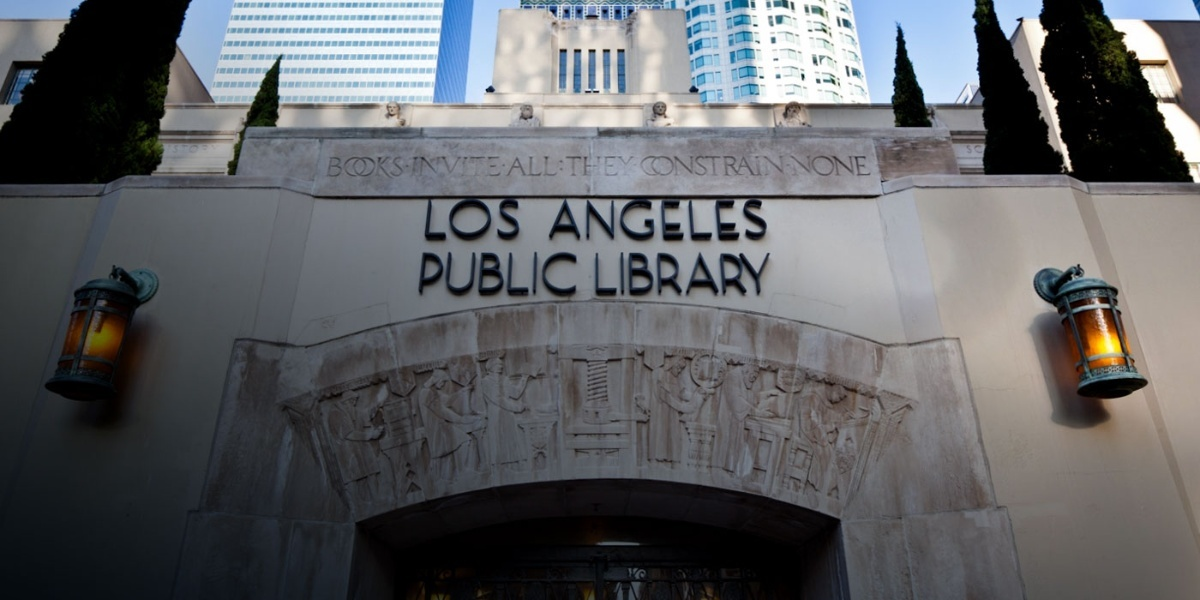text: (433, 196, 448, 244), (449, 196, 464, 244), (465, 196, 480, 244), (481, 196, 496, 244), (497, 196, 512, 244), (561, 251, 577, 296), (609, 251, 624, 298), (625, 251, 640, 298), (641, 251, 656, 298), (657, 251, 672, 298), (673, 251, 688, 298), (689, 251, 704, 298), (705, 251, 720, 298), (721, 251, 736, 298), (737, 251, 752, 298), (753, 251, 768, 298), (561, 197, 576, 242), (577, 197, 592, 242), (593, 197, 608, 242), (609, 197, 624, 242), (625, 197, 640, 242), (641, 197, 656, 242), (657, 197, 672, 242), (673, 197, 688, 242), (689, 197, 704, 242), (705, 197, 720, 242), (721, 197, 736, 242), (737, 197, 752, 242), (753, 197, 768, 242), (433, 251, 448, 296), (449, 251, 464, 296), (465, 251, 480, 296), (481, 251, 496, 296), (497, 251, 512, 296), (513, 251, 528, 296), (529, 251, 544, 296), (545, 251, 560, 296), (594, 251, 608, 298), (549, 197, 560, 242), (421, 251, 432, 296), (513, 196, 523, 244), (337, 152, 352, 179), (353, 152, 368, 179), (369, 152, 384, 179), (385, 152, 400, 179), (401, 152, 416, 179), (417, 152, 432, 179), (433, 152, 448, 179), (449, 152, 464, 179), (465, 152, 480, 179), (481, 152, 496, 179), (497, 152, 512, 179), (513, 152, 528, 179), (529, 152, 544, 179), (545, 152, 560, 179), (561, 152, 576, 179), (577, 152, 592, 179), (593, 152, 608, 179), (609, 152, 624, 179), (625, 152, 640, 179), (641, 152, 656, 179), (657, 152, 672, 179), (673, 152, 688, 179), (689, 152, 704, 179), (705, 152, 720, 179), (721, 152, 736, 179), (737, 152, 752, 179), (753, 152, 768, 179), (769, 152, 784, 179), (785, 152, 800, 179), (801, 152, 816, 179), (817, 152, 832, 179), (833, 152, 848, 179), (849, 152, 864, 179), (424, 196, 432, 244), (327, 152, 336, 179), (177, 143, 192, 155), (193, 143, 208, 155), (865, 152, 871, 179), (964, 143, 976, 156), (164, 143, 176, 155), (209, 143, 221, 155), (977, 143, 984, 156), (769, 197, 771, 242), (769, 251, 770, 298)
